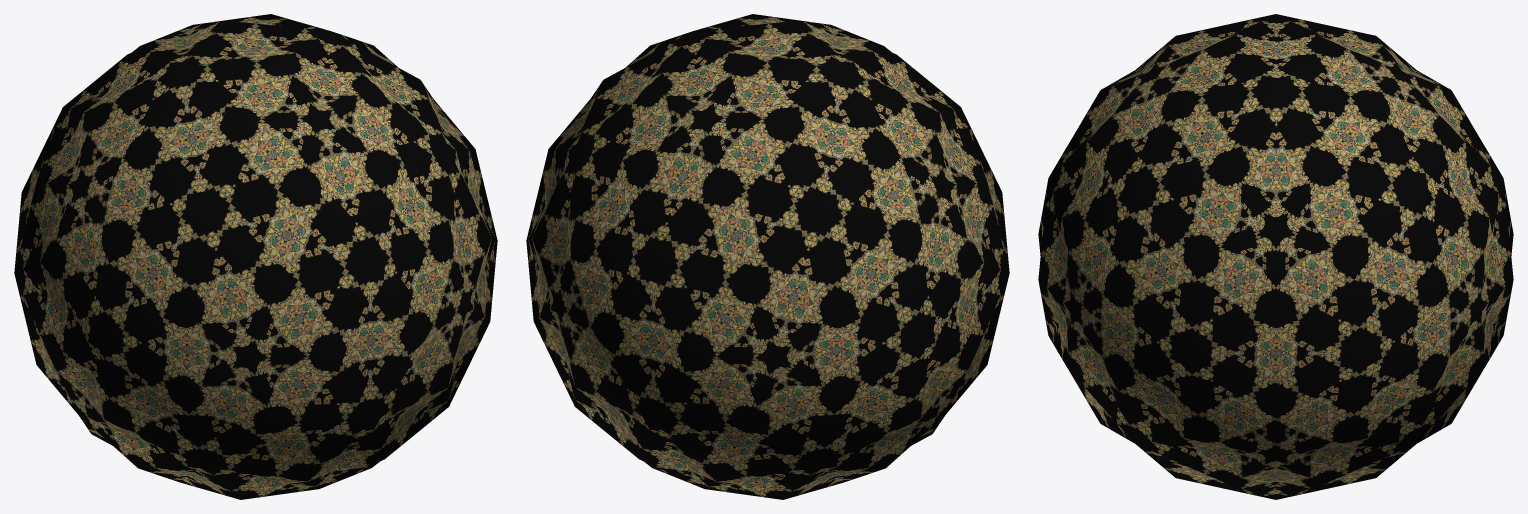
The model's file is SmallHexagonalHexecontahedron5.gltf.
3 views of the same model, side by side, from view 1: azimuth 30°, elevation 25°; view 2: azimuth 150°, elevation 25°; view 3: azimuth 270°, elevation 25° (orthographic).
Visible parts, largest first — view 1: SmallHexagonalHexecontahedron; view 2: SmallHexagonalHexecontahedron; view 3: SmallHexagonalHexecontahedron.
Boxes of the visible parts, <box> form: SmallHexagonalHexecontahedron: <box>14,14,497,499</box>; SmallHexagonalHexecontahedron: <box>526,14,1009,499</box>; SmallHexagonalHexecontahedron: <box>1038,14,1513,499</box>.
Size of the model in its own units: 2.73 by 2.73 by 2.73.
1 material, 1 textured.
